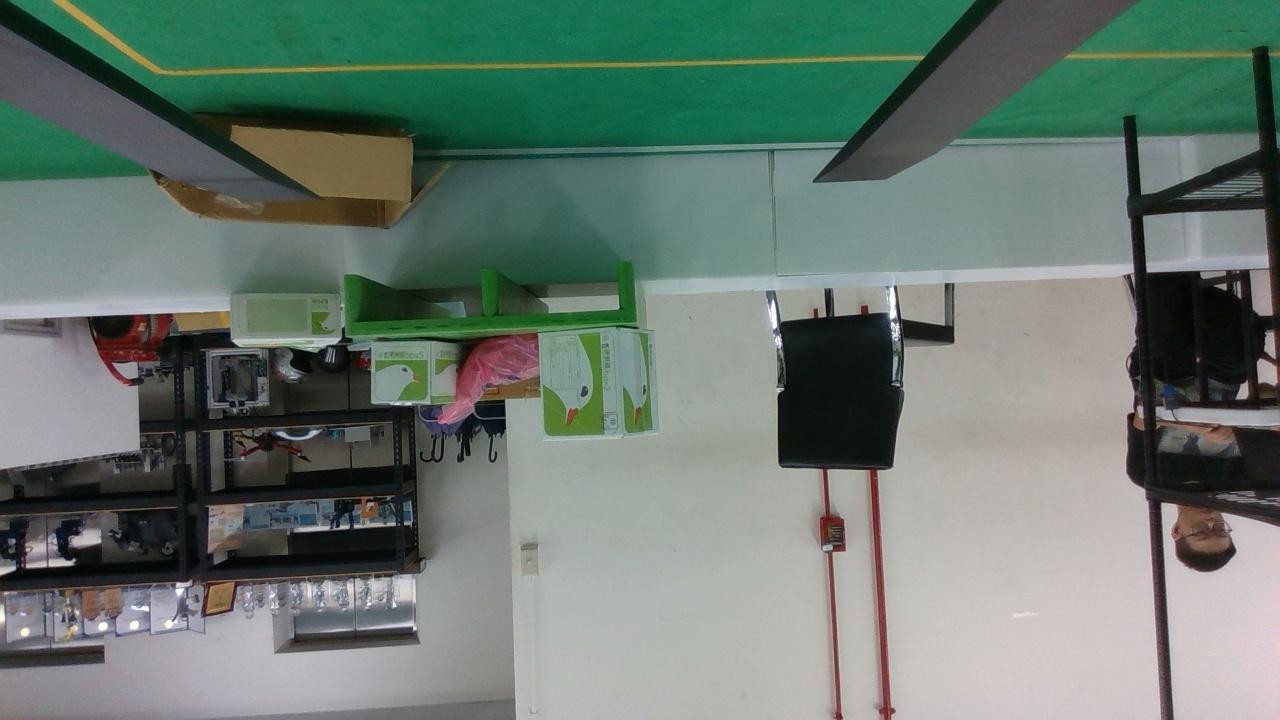Pallet: (344, 262, 638, 338)
